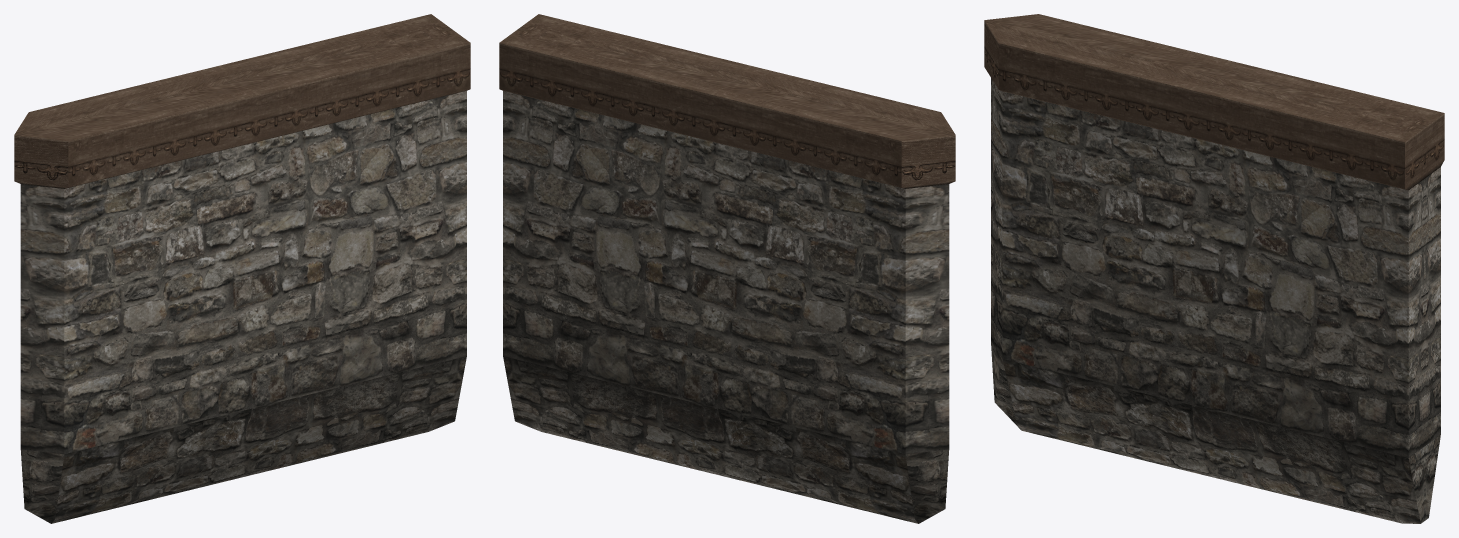
File: House_Stone_Wall.dae
The picture shows the model from 3 angles, left to right: view 1: azimuth 30°, elevation 25°; view 2: azimuth 150°, elevation 25°; view 3: azimuth 330°, elevation 25°; orthographic projection.
Visible parts, largest first — view 1: StoneWall2; view 2: StoneWall2; view 3: StoneWall2.
Part boxes in pixels (left/top/right/bottom): StoneWall2: left=14, top=14, right=470, bottom=523; StoneWall2: left=499, top=14, right=955, bottom=523; StoneWall2: left=984, top=14, right=1444, bottom=523.
Bounding box in the file's own units: 4.34 × 3.78 × 0.68.
1 material, 1 textured.
